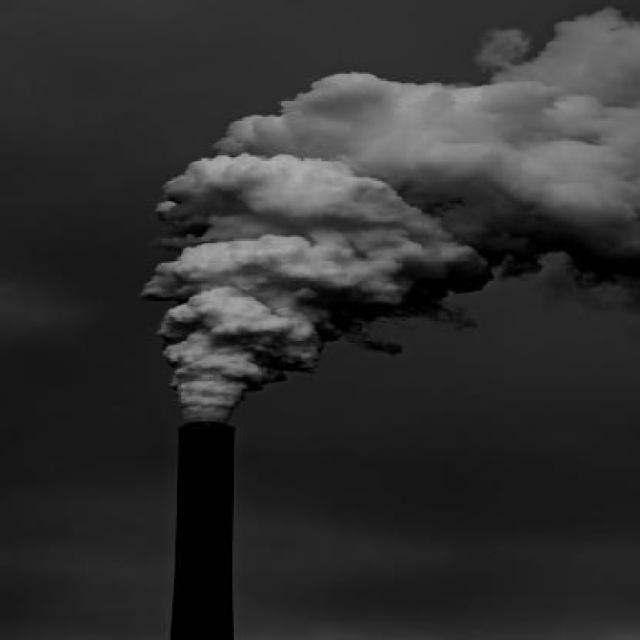Smoke: (144, 0, 640, 420)
